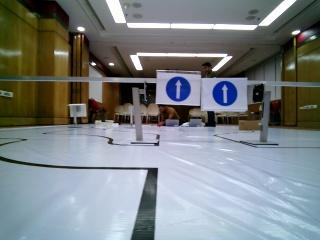straight: (203, 77, 249, 110), (158, 72, 200, 106)
